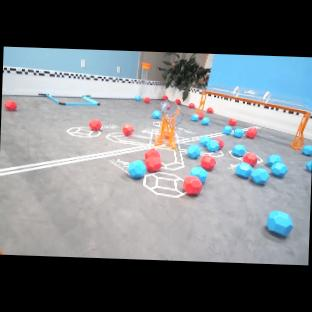Autolimit: (0, 144, 154, 176), (176, 133, 227, 144), (241, 126, 262, 132), (230, 130, 234, 134)
Goal: (203, 86, 311, 149), (195, 93, 206, 113)
Loader: (139, 62, 151, 99)
Med_goal: (155, 100, 183, 149)
Parking - B: (38, 94, 99, 106)
V5_BLUE: (266, 210, 292, 237), (267, 156, 287, 177), (126, 160, 145, 178), (236, 162, 252, 178), (222, 126, 243, 138), (253, 168, 268, 184), (205, 137, 220, 150), (231, 145, 245, 157), (187, 146, 202, 157), (232, 145, 246, 155), (200, 136, 211, 147), (201, 117, 210, 126), (303, 145, 311, 154), (152, 111, 161, 119), (191, 114, 199, 122), (306, 162, 312, 172), (256, 169, 267, 174), (135, 96, 140, 101)
V5_RED: (182, 176, 203, 195), (145, 148, 161, 170), (202, 155, 216, 169), (5, 100, 16, 111), (89, 119, 100, 129), (248, 152, 257, 164), (215, 138, 224, 149), (122, 125, 132, 134), (247, 129, 257, 138), (198, 112, 205, 121), (206, 107, 213, 113), (188, 103, 195, 109), (175, 99, 181, 104), (144, 98, 149, 103), (162, 96, 168, 100), (51, 256, 69, 257)
